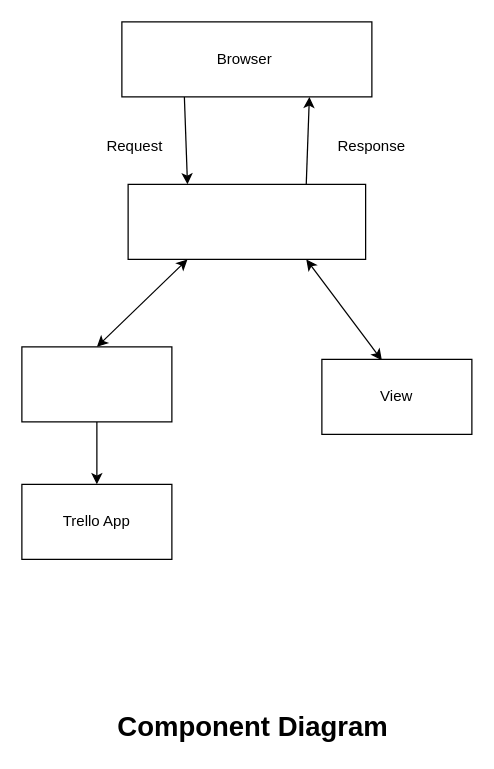
This 494x769 diagram has some shape labels left out. Here are the shapes that lost their labels. From the top down, the centre of each, then its label:
At (x=246, y=221): "Controller".
At (x=96, y=384): "Model".
